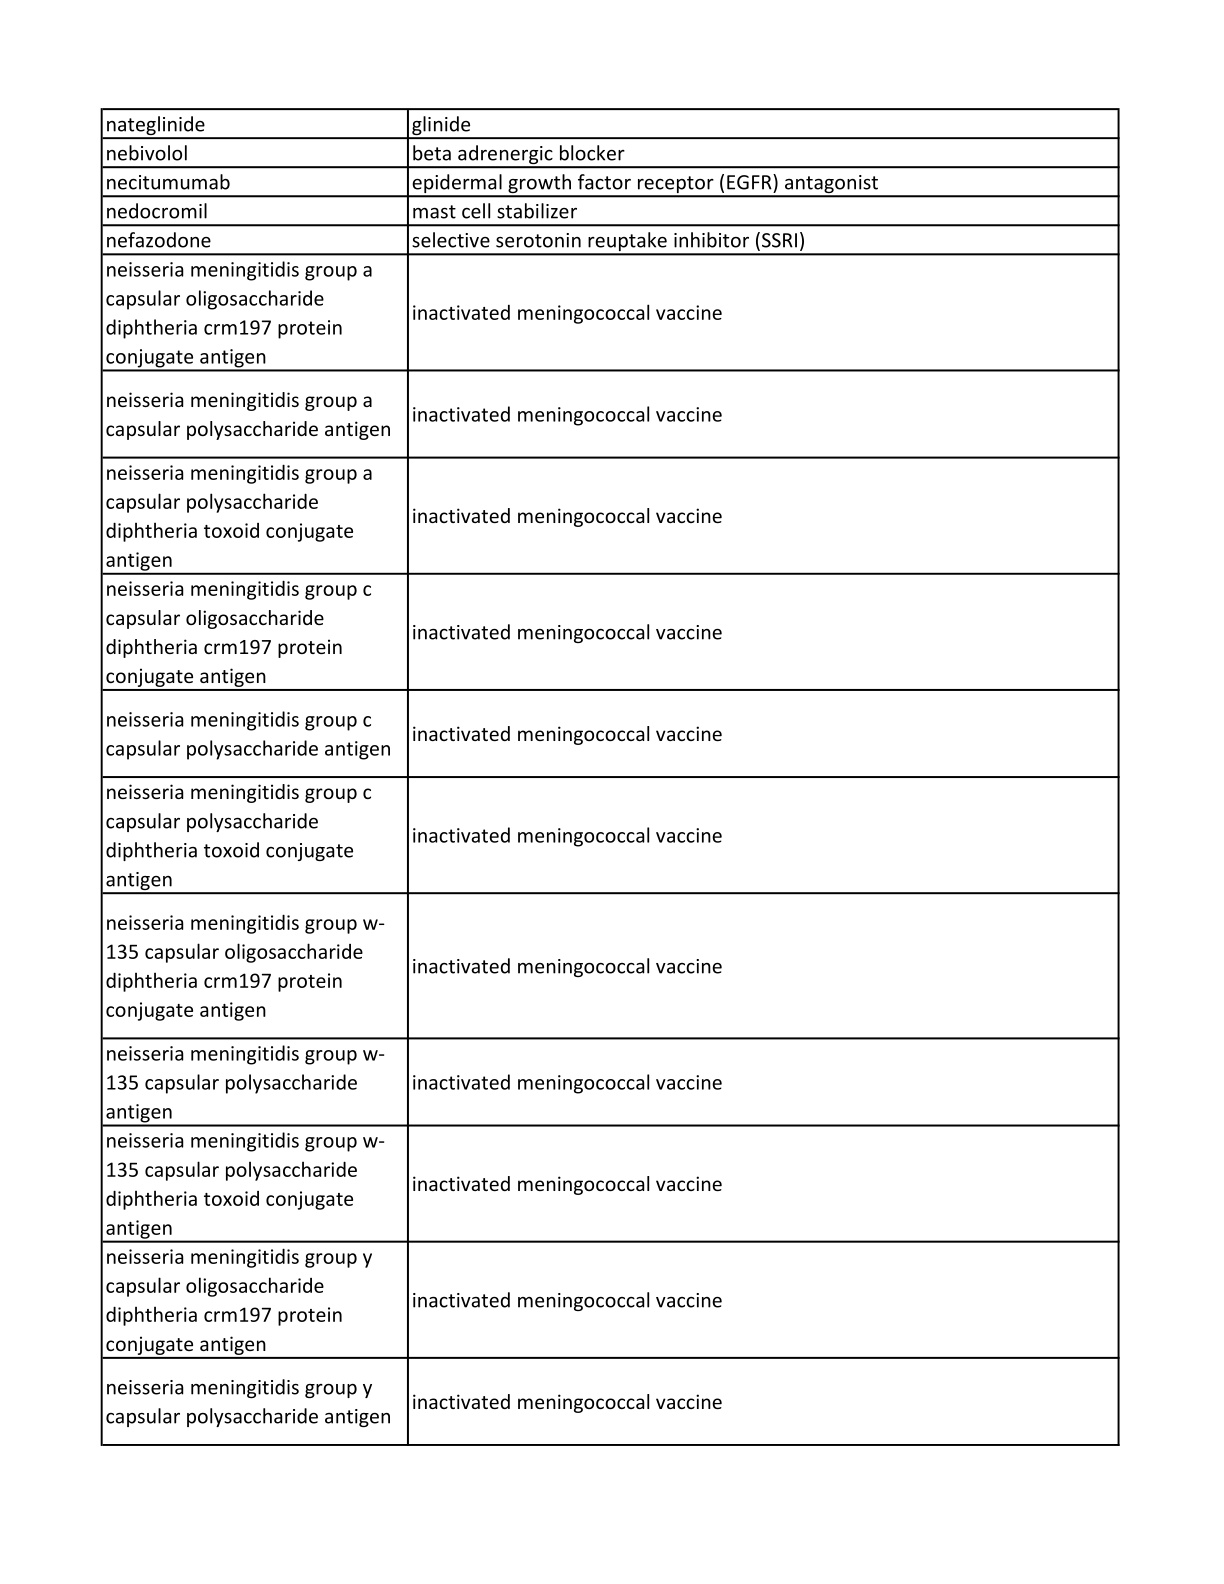full_lined: (100, 108, 1120, 1446)
